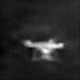plane: (21, 37, 64, 62)
